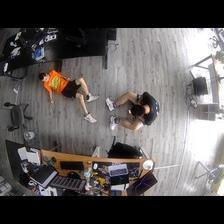fall: (40, 69, 101, 123), (104, 89, 160, 131)
